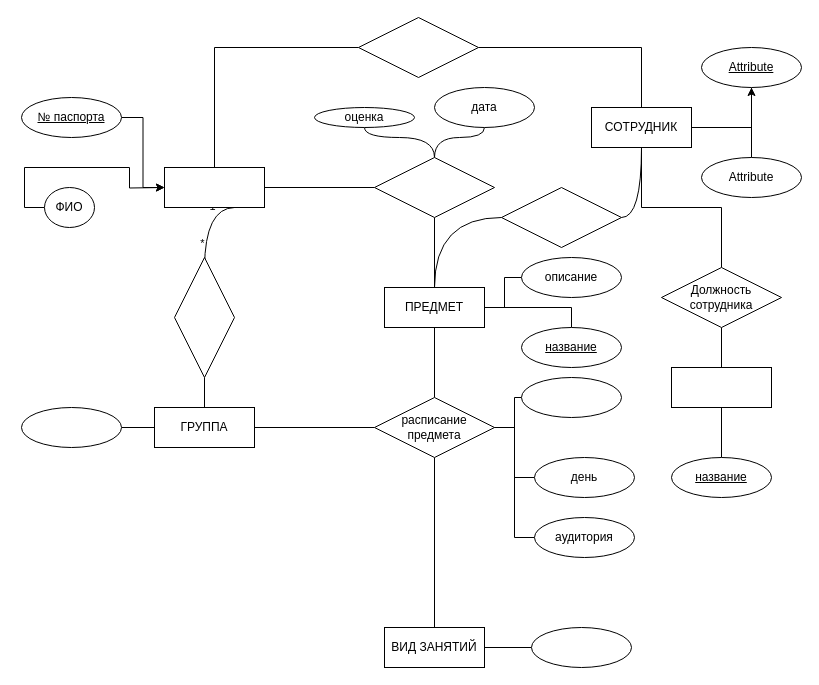
Image size: 819x685. Some labels were removed from this diagram. The shapes that lost their labels are listed below. From the top down, each one's box as (x1, y1, x2, y2) in pixels, then its label:
(358, 16, 478, 78): Деканат
(164, 166, 264, 208): СТУДЕНТ
(374, 156, 494, 218): ведомость
(500, 186, 622, 248): ЧИТАЕТ
(174, 256, 234, 378): Состав группы
(520, 376, 622, 418): № недели
(670, 366, 772, 408): Должнось
(20, 406, 122, 448): номер
(530, 626, 632, 668): вид
